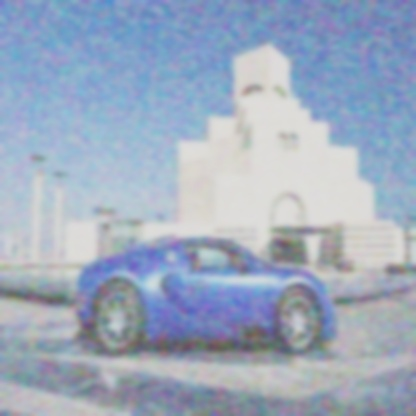Vehicle: (74, 236, 340, 354)
